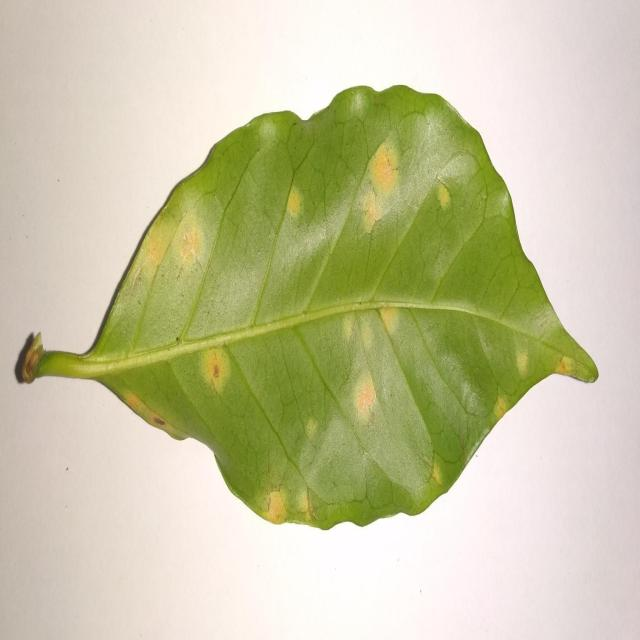Enfermedad-Roya: (13, 85, 599, 532)
